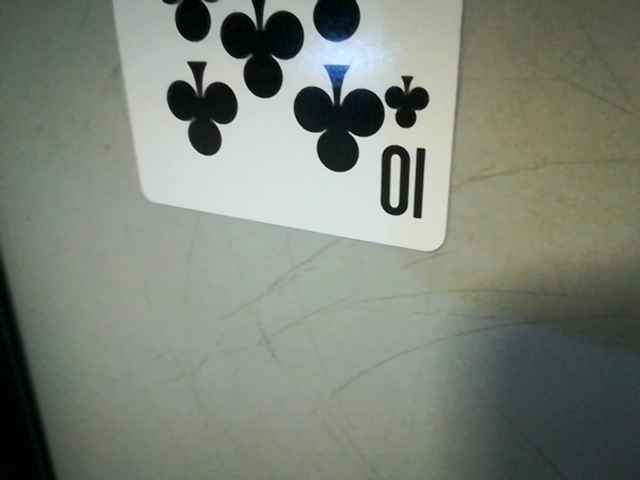mh 10: (374, 69, 444, 236)
